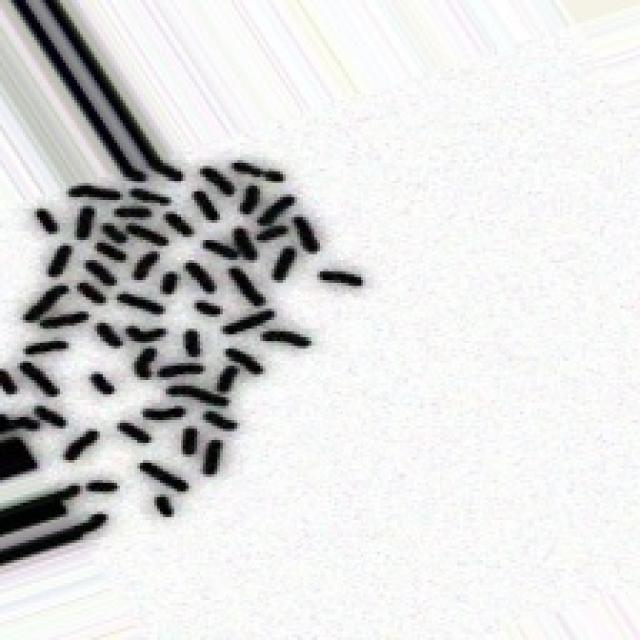Spiral_bacteria: (0, 148, 363, 603)
